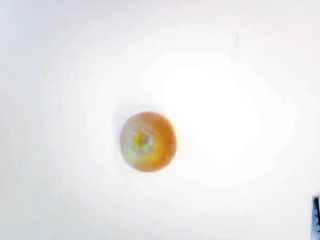apple: (119, 109, 178, 170)
